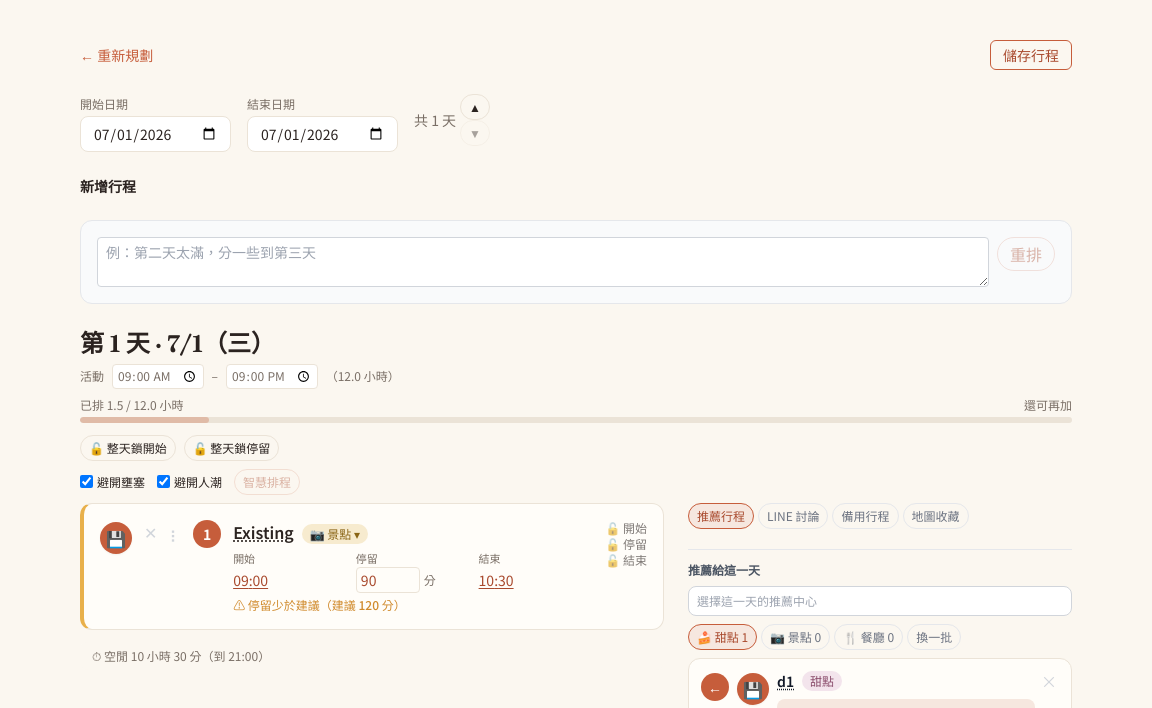
Scenario: enriches details and stores the minimal place index only after add
The image size is (1152, 708).
Click the button with test id "rec-add-d1": (715, 687) x1=701 y1=673 x2=729 y2=701
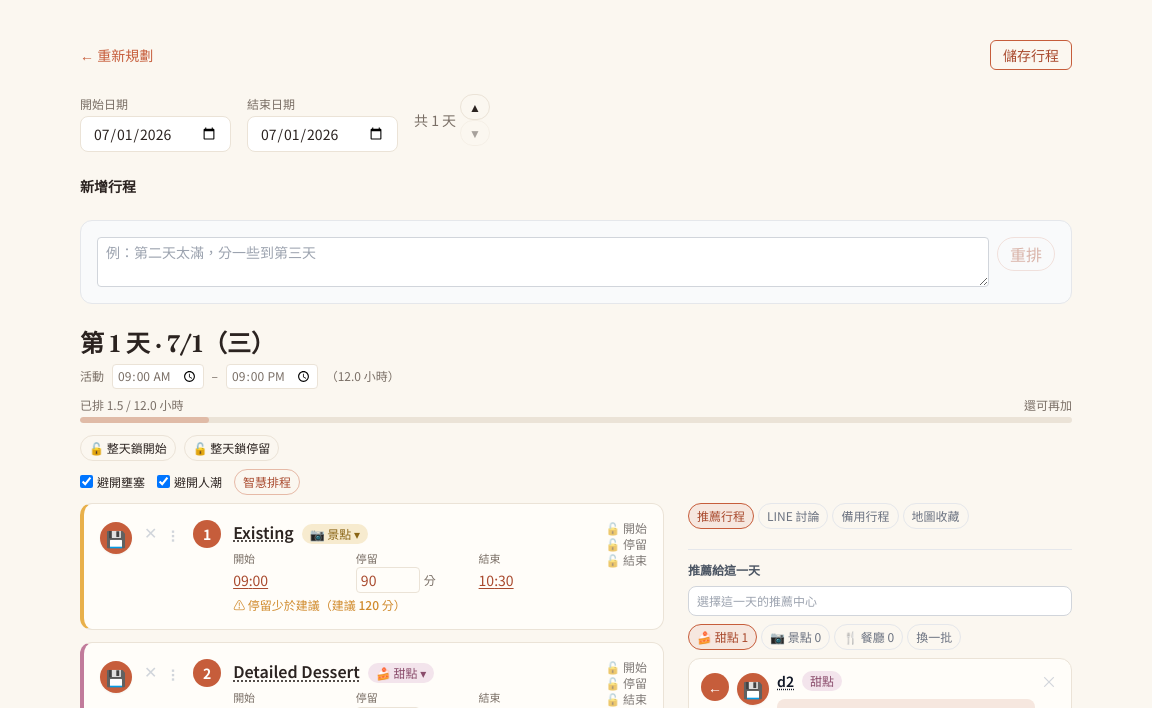
Check: the link "Detailed Dessert" is shown, box x1=233 y1=659 x2=360 y2=683
